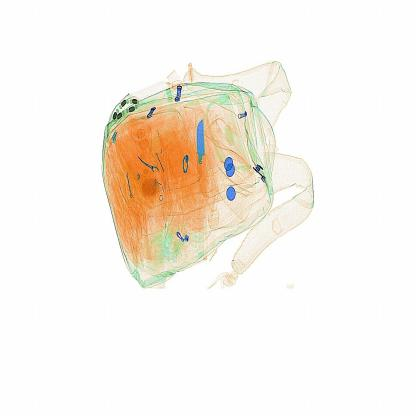wrench: (194, 117, 212, 205)
